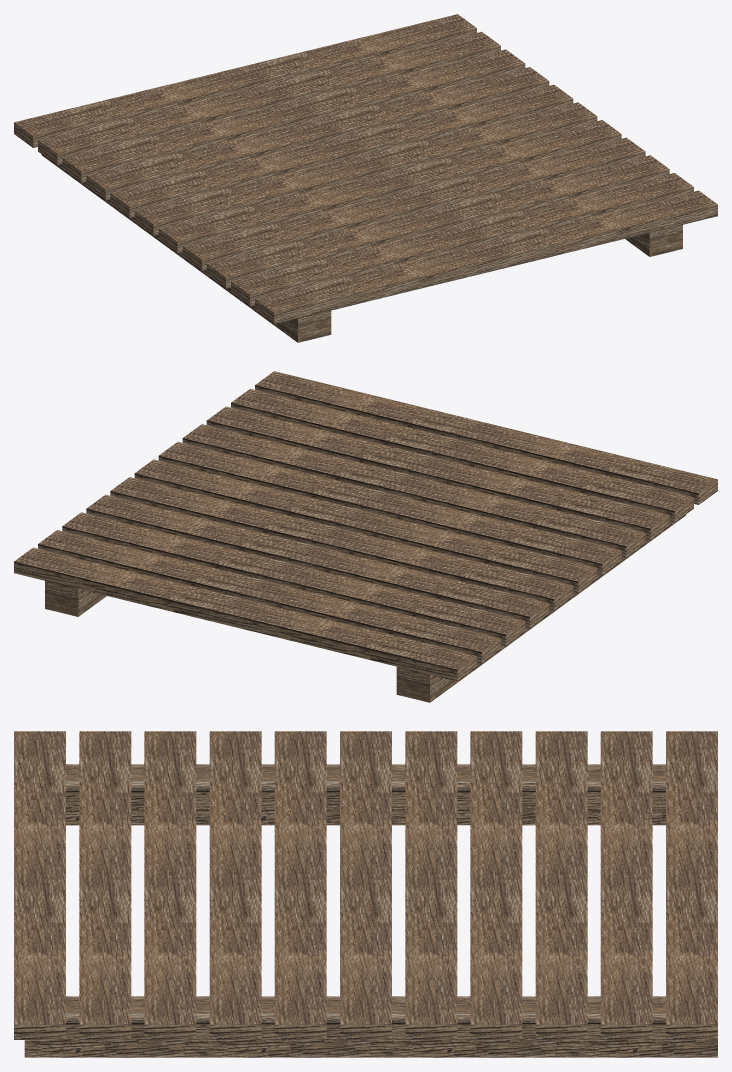
The model's file is plataforma.fbx.
3 renders of one model, top to bottom at view 1: azimuth 30°, elevation 25°; view 2: azimuth 150°, elevation 25°; view 3: azimuth 270°, elevation 25°, orthographic. The views are drawn at different scales.
Parts seen in each view (by area): view 1: Piso_4x4; view 2: Piso_4x4; view 3: Piso_4x4.
Part boxes in pixels (x1,y1,x2,y2): Piso_4x4: (14, 14, 717, 342); Piso_4x4: (14, 371, 717, 702); Piso_4x4: (14, 731, 717, 1057).
Bounding box in the file's own units: 400 × 34.25 × 406.
Materials: 1 (1 with a texture image).
